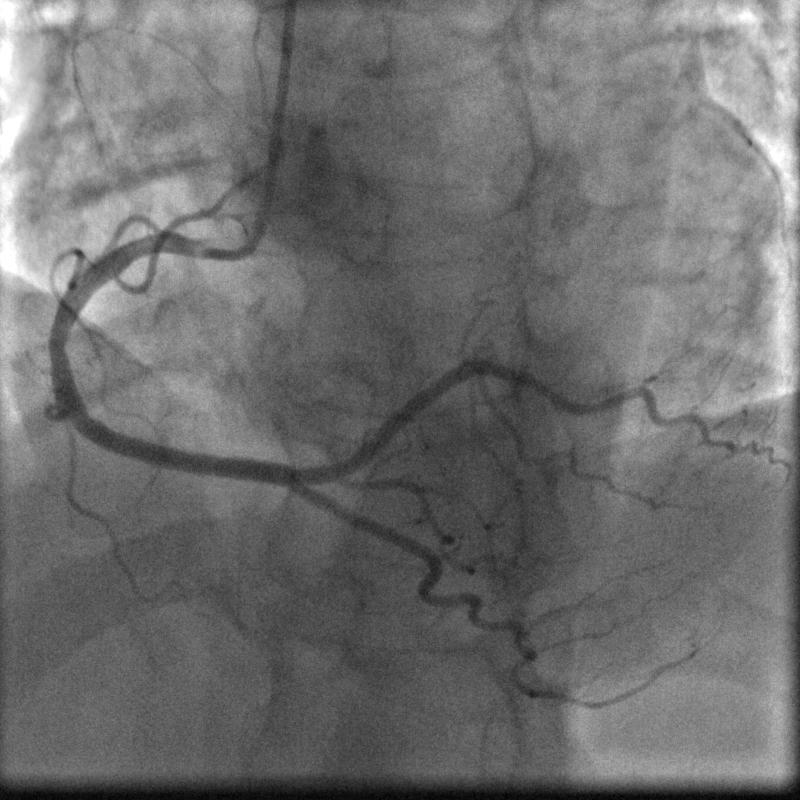Stenosis: (40, 315, 75, 367)
